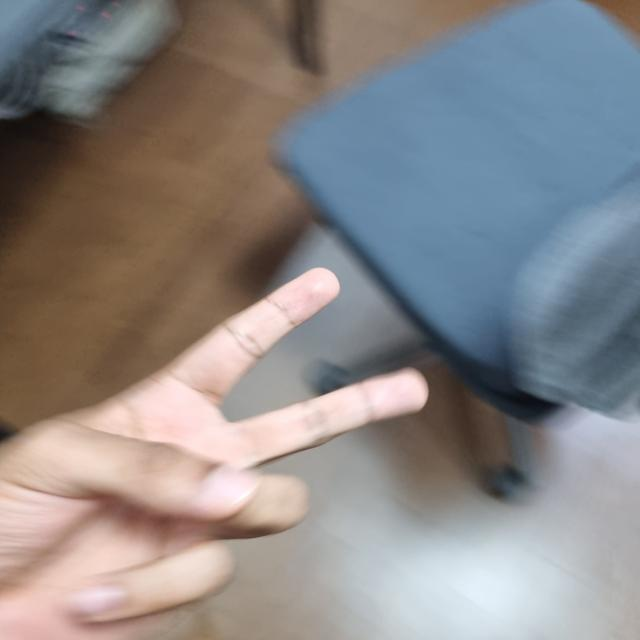Scissors: (0, 277, 472, 638)
